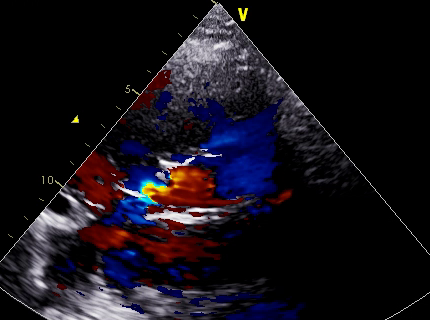TR: (107, 139, 181, 241)
